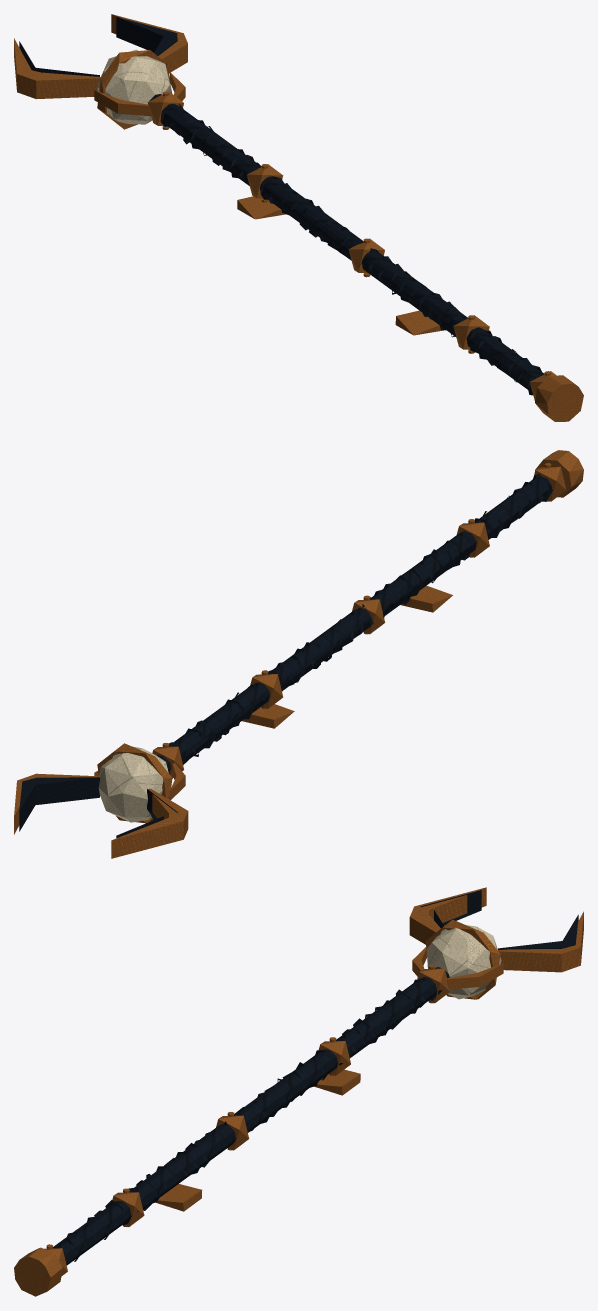
File: storm-conductor-staff-stowed-lod2.glb
The picture shows the model from 3 angles, top to bottom: view 1: azimuth 30°, elevation 25°; view 2: azimuth 150°, elevation 25°; view 3: azimuth 330°, elevation 25°; orthographic projection.
Parts seen in each view (by area): view 1: Dark woven shaft grip, Ivory conductor pearl, Copper fork tine shell, Staff flared pommel, Dark fork tine inset.001, Copper fork tine shell.001, Orb equatorial copper cradle, Back carry clasp, Conductor cradle horn, Back carry clasp.001, Copper staff segmented ferrule.001, Copper staff segmented ferrule.003 (+2 smaller); view 2: Dark woven shaft grip, Ivory conductor pearl, Copper fork tine shell, Dark fork tine inset.001, Staff flared pommel, Orb equatorial copper cradle, Back carry clasp, Back carry clasp.001, Copper staff segmented ferrule.001, Copper staff segmented ferrule.003, Copper staff segmented ferrule, Copper staff segmented ferrule.002 (+1 smaller); view 3: Dark woven shaft grip, Ivory conductor pearl, Copper fork tine shell.001, Copper fork tine shell, Staff flared pommel, Orb equatorial copper cradle, Back carry clasp, Conductor cradle horn.001, Back carry clasp.001, Dark fork tine inset.001, Dark fork tine inset, Copper staff segmented ferrule.002 (+3 smaller).
Boxes of the visible parts, x1,y1,x2,y2 form: Dark woven shaft grip: [148, 94, 544, 392]; Ivory conductor pearl: [97, 49, 171, 124]; Copper fork tine shell: [14, 38, 100, 99]; Staff flared pommel: [535, 375, 583, 421]; Dark fork tine inset.001: [116, 17, 177, 55]; Copper fork tine shell.001: [111, 14, 187, 73]; Orb equatorial copper cradle: [97, 50, 172, 129]; Back carry clasp: [395, 310, 443, 335]; Conductor cradle horn: [94, 90, 151, 116]; Back carry clasp.001: [237, 196, 285, 219]; Copper staff segmented ferrule.001: [453, 315, 489, 349]; Copper staff segmented ferrule.003: [247, 164, 283, 198]; Dark woven shaft grip: [157, 476, 552, 773]; Ivory conductor pearl: [98, 746, 168, 822]; Copper fork tine shell: [111, 788, 188, 858]; Dark fork tine inset.001: [19, 777, 99, 831]; Staff flared pommel: [535, 450, 583, 497]; Orb equatorial copper cradle: [97, 743, 172, 823]; Back carry clasp: [400, 585, 452, 612]; Back carry clasp.001: [242, 704, 294, 728]; Copper staff segmented ferrule.001: [456, 522, 489, 557]; Copper staff segmented ferrule.003: [250, 674, 283, 708]; Copper staff segmented ferrule: [534, 466, 566, 501]; Copper staff segmented ferrule.002: [352, 599, 385, 634]; Dark woven shaft grip: [53, 967, 449, 1265]; Ivory conductor pearl: [426, 925, 501, 999]; Copper fork tine shell.001: [498, 911, 583, 972]; Copper fork tine shell: [409, 887, 486, 944]; Staff flared pommel: [14, 1247, 62, 1296]; Orb equatorial copper cradle: [425, 919, 500, 999]; Back carry clasp: [156, 1184, 202, 1211]; Conductor cradle horn.001: [446, 963, 503, 989]; Back carry clasp.001: [314, 1069, 360, 1095]; Dark fork tine inset.001: [498, 914, 578, 949]; Dark fork tine inset: [420, 890, 481, 928]; Copper staff segmented ferrule.002: [216, 1115, 249, 1150].
Size of the model in its own units: 0.34 by 0.143 by 1.78.
3 materials, 3 textured.
